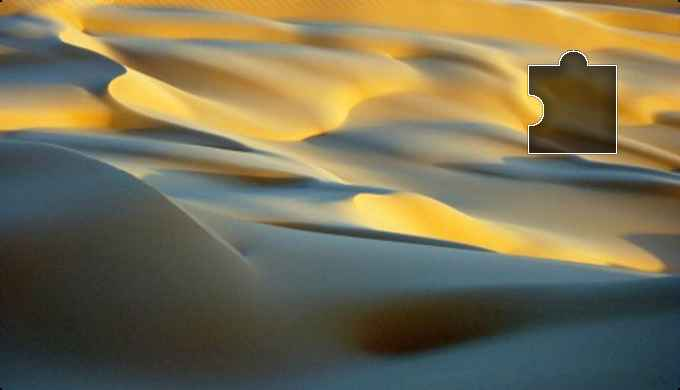gap: (529, 48, 616, 151)
